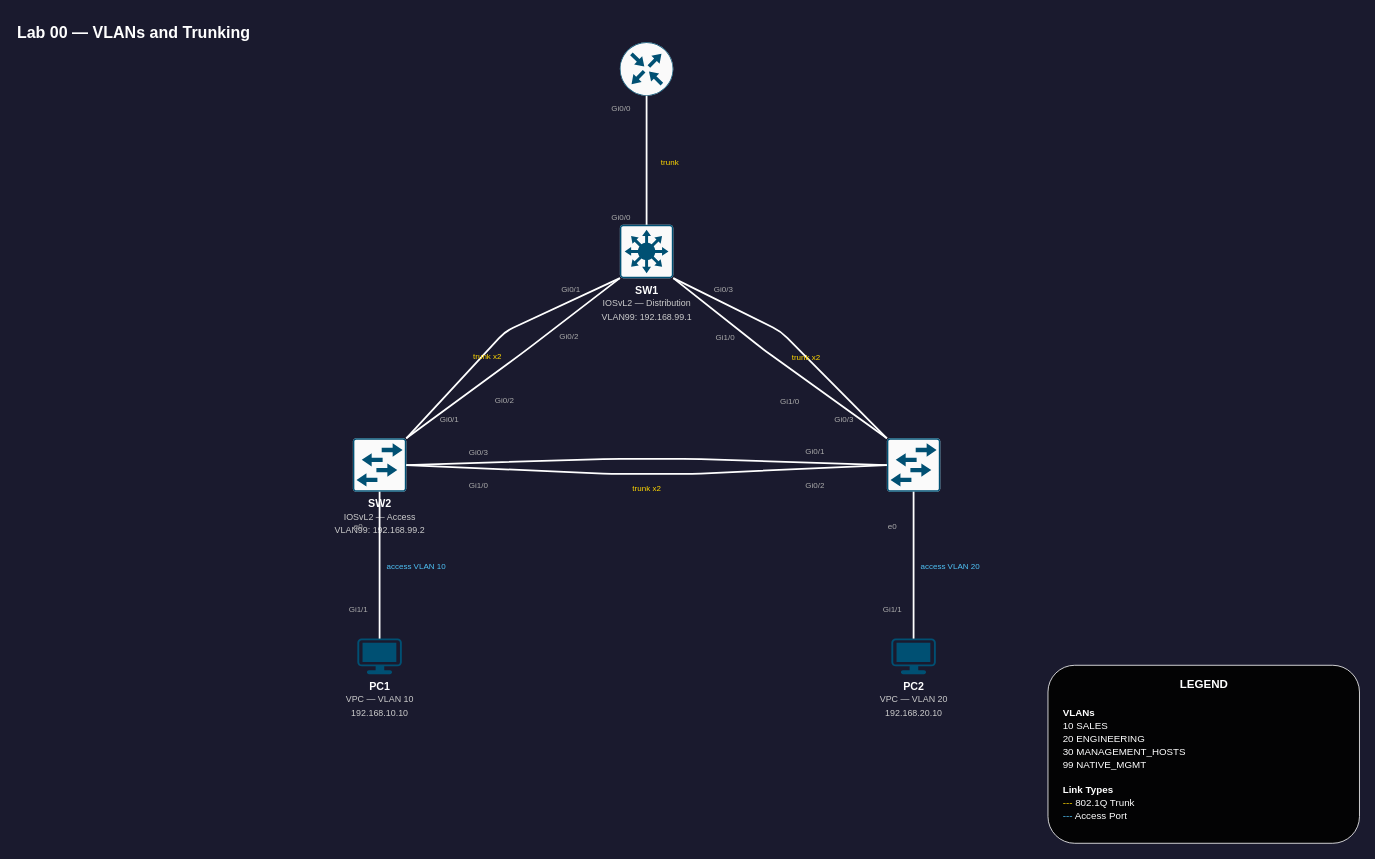
Image size: 1375x859. Some labels were removed from this diagram. The shapes that lost their labels are listed below. From the top down, each one's centre as x and y in pixels, then its label:
At point 646,68: "R1 IOSv — Inter-VLAN Router Lo0: 1.1.1.1".
At point 913,464: "SW3 IOSvL2 — Access VLAN99: 192.168.99.3".
